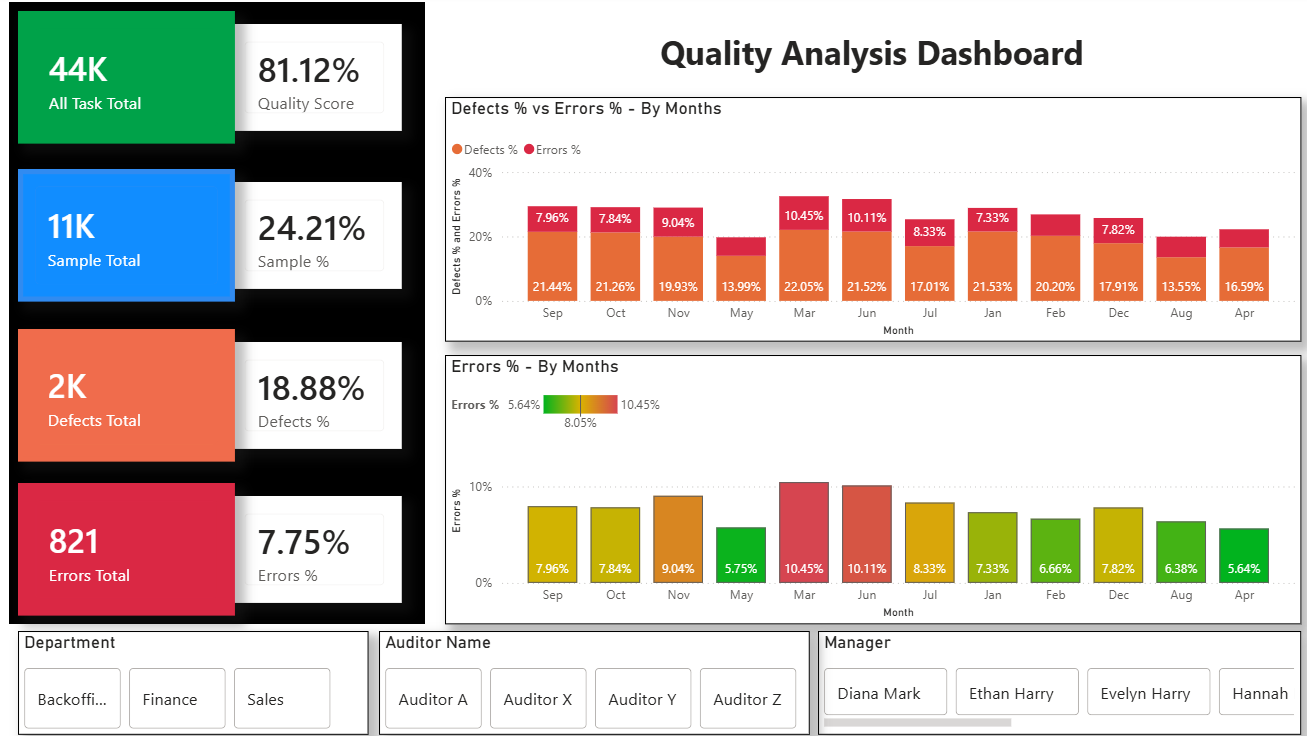

The page's visual inventory and layout, read from the dashboard file:
{"tool":"powerbi","page":{"name":"Overview","canvas":[1280,720],"ordinal":0},"visuals":[{"type":"group","id":"g1","title":"Group 1","box":[9,6,404.6,605],"z":0},{"type":"shape","box":[9,6,404.6,605],"z":0,"group":"g1"},{"type":"columnChart","title":"Defects % vs Errors % - By Months","fields":{"Category":["Calendar.Month"],"Y":["All_Measures.Defects %","All_Measures.Errors %"]},"box":[432.8,98.2,832.6,238.3],"z":1000},{"type":"cardVisual","fields":{"Data":["All_Measures.Errors %"]},"box":[220.8,486.3,170.2,104.1],"z":1000,"group":"g1"},{"type":"cardVisual","fields":{"Data":["All_Measures.Defects %"]},"box":[220.8,336.5,170.2,104.1],"z":2000,"group":"g1"},{"type":"clusteredColumnChart","title":"Errors % - By Months","fields":{"Y":["All_Measures.Errors %"],"Category":["Calendar.Month"]},"box":[432.8,349.2,832.6,261.6],"z":2000},{"type":"cardVisual","fields":{"Data":["All_Measures.Sample %"]},"box":[220.8,180.9,170.2,104.1],"z":3000,"group":"g1"},{"type":"advancedSlicerVisual","fields":{"Values":["Employee Details.Department"]},"box":[17.5,617.6,341.4,101.2],"z":3000},{"type":"cardVisual","fields":{"Data":["All_Measures.Quality Score"]},"box":[220.8,27.2,170.2,104.1],"z":4000,"group":"g1"},{"type":"advancedSlicerVisual","fields":{"Values":["Employee Details.Manager"]},"box":[795.6,617.6,469.8,101.2],"z":4000},{"type":"cardVisual","fields":{"Data":["All_Measures.All Task Total"]},"box":[17.5,14.6,211.1,129.4],"z":5000,"group":"g1"},{"type":"advancedSlicerVisual","fields":{"Values":["Auditor Details.Auditor Name"]},"box":[368.6,617.6,419.2,101.2],"z":5000},{"type":"textbox","box":[637.1,27.2,424.1,52.5],"z":6000},{"type":"cardVisual","fields":{"Data":["All_Measures.Sample Total"]},"box":[17.5,168.3,211.1,129.4],"z":6000,"group":"g1"},{"type":"cardVisual","fields":{"Data":["All_Measures.Defects Total"]},"box":[17.5,323.9,211.1,129.4],"z":7000,"group":"g1"},{"type":"cardVisual","fields":{"Data":["All_Measures.Errors Total"]},"box":[17.5,473.7,211.1,129.4],"z":8000,"group":"g1"}]}

Visuals, with their boxes in screenshot pixels (x1, y1, x2, y2), scaled from the page's 1280x720 canvas onto the 1307x736 screenshot:
"Group 1" group: BBox(9, 6, 422, 625)
shape: BBox(9, 6, 422, 625)
"Defects % vs Errors % - By Months" columnChart: BBox(442, 100, 1292, 344)
cardVisual - All_Measures.Errors %: BBox(225, 497, 399, 604)
cardVisual - All_Measures.Defects %: BBox(225, 344, 399, 450)
"Errors % - By Months" clusteredColumnChart: BBox(442, 357, 1292, 624)
cardVisual - All_Measures.Sample %: BBox(225, 185, 399, 291)
advancedSlicerVisual - Employee Details.Department: BBox(18, 631, 366, 735)
cardVisual - All_Measures.Quality Score: BBox(225, 28, 399, 134)
advancedSlicerVisual - Employee Details.Manager: BBox(812, 631, 1292, 735)
cardVisual - All_Measures.All Task Total: BBox(18, 15, 233, 147)
advancedSlicerVisual - Auditor Details.Auditor Name: BBox(376, 631, 804, 735)
textbox: BBox(651, 28, 1084, 81)
cardVisual - All_Measures.Sample Total: BBox(18, 172, 233, 304)
cardVisual - All_Measures.Defects Total: BBox(18, 331, 233, 463)
cardVisual - All_Measures.Errors Total: BBox(18, 484, 233, 617)
